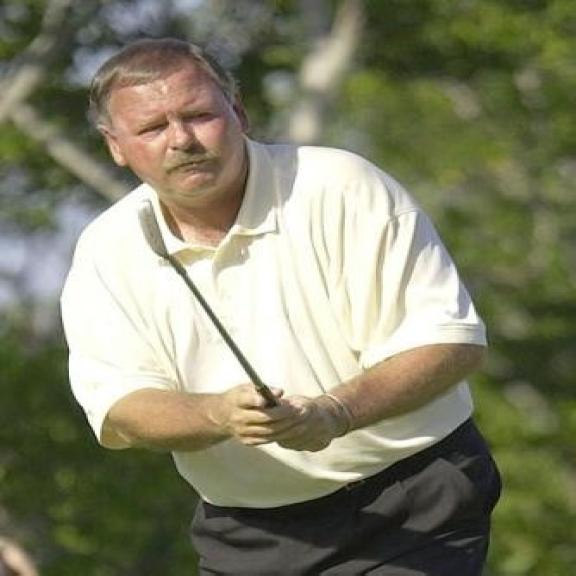face: (91, 66, 269, 200)
